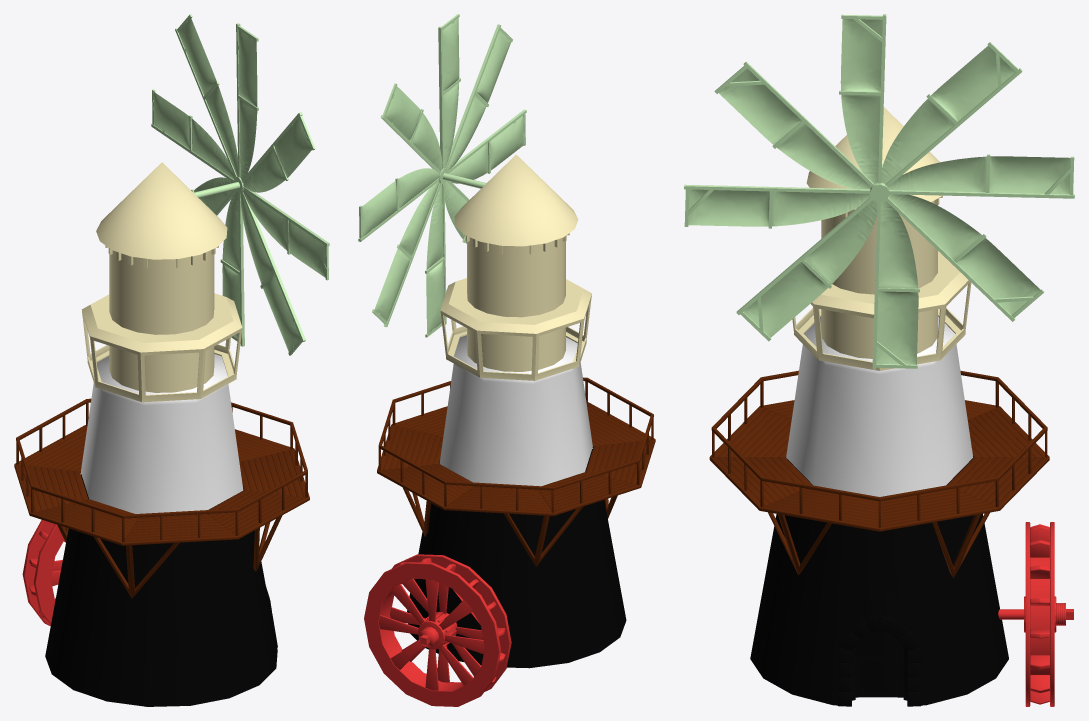
The model's file is Windmill_Low.fbx.
The picture shows the model from 3 angles, left to right: view 1: azimuth 30°, elevation 25°; view 2: azimuth 150°, elevation 25°; view 3: azimuth 270°, elevation 25°; orthographic projection. The views are drawn at different scales.
Parts seen in each view (by area): view 1: MainBody, TopBody, Telas_05, Plank_10_low, Water_Wheel; view 2: MainBody, TopBody, Telas_05, Plank_10_low, Water_Wheel; view 3: MainBody, Telas_05, Plank_10_low, TopBody, Water_Wheel.
Boxes of the visible parts, x1,y1,x2,y2 form: MainBody: (45, 354, 277, 706); TopBody: (81, 162, 242, 402); Telas_05: (151, 14, 329, 355); Plank_10_low: (14, 398, 309, 598); Water_Wheel: (22, 520, 65, 625); MainBody: (407, 335, 626, 668); TopBody: (440, 154, 591, 380); Telas_05: (358, 14, 526, 337); Plank_10_low: (377, 377, 655, 566); Water_Wheel: (364, 554, 511, 706); MainBody: (750, 316, 1008, 706); Telas_05: (684, 14, 1074, 369); Plank_10_low: (709, 370, 1049, 577); TopBody: (792, 107, 971, 370); Water_Wheel: (998, 522, 1073, 706).
Bounding box in the file's own units: 2841 × 6640 × 3265.
